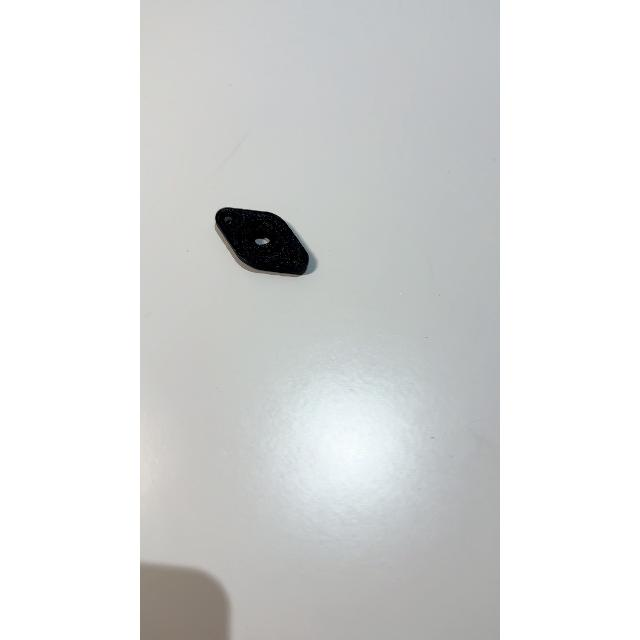Pieza_2: (208, 202, 314, 288)
